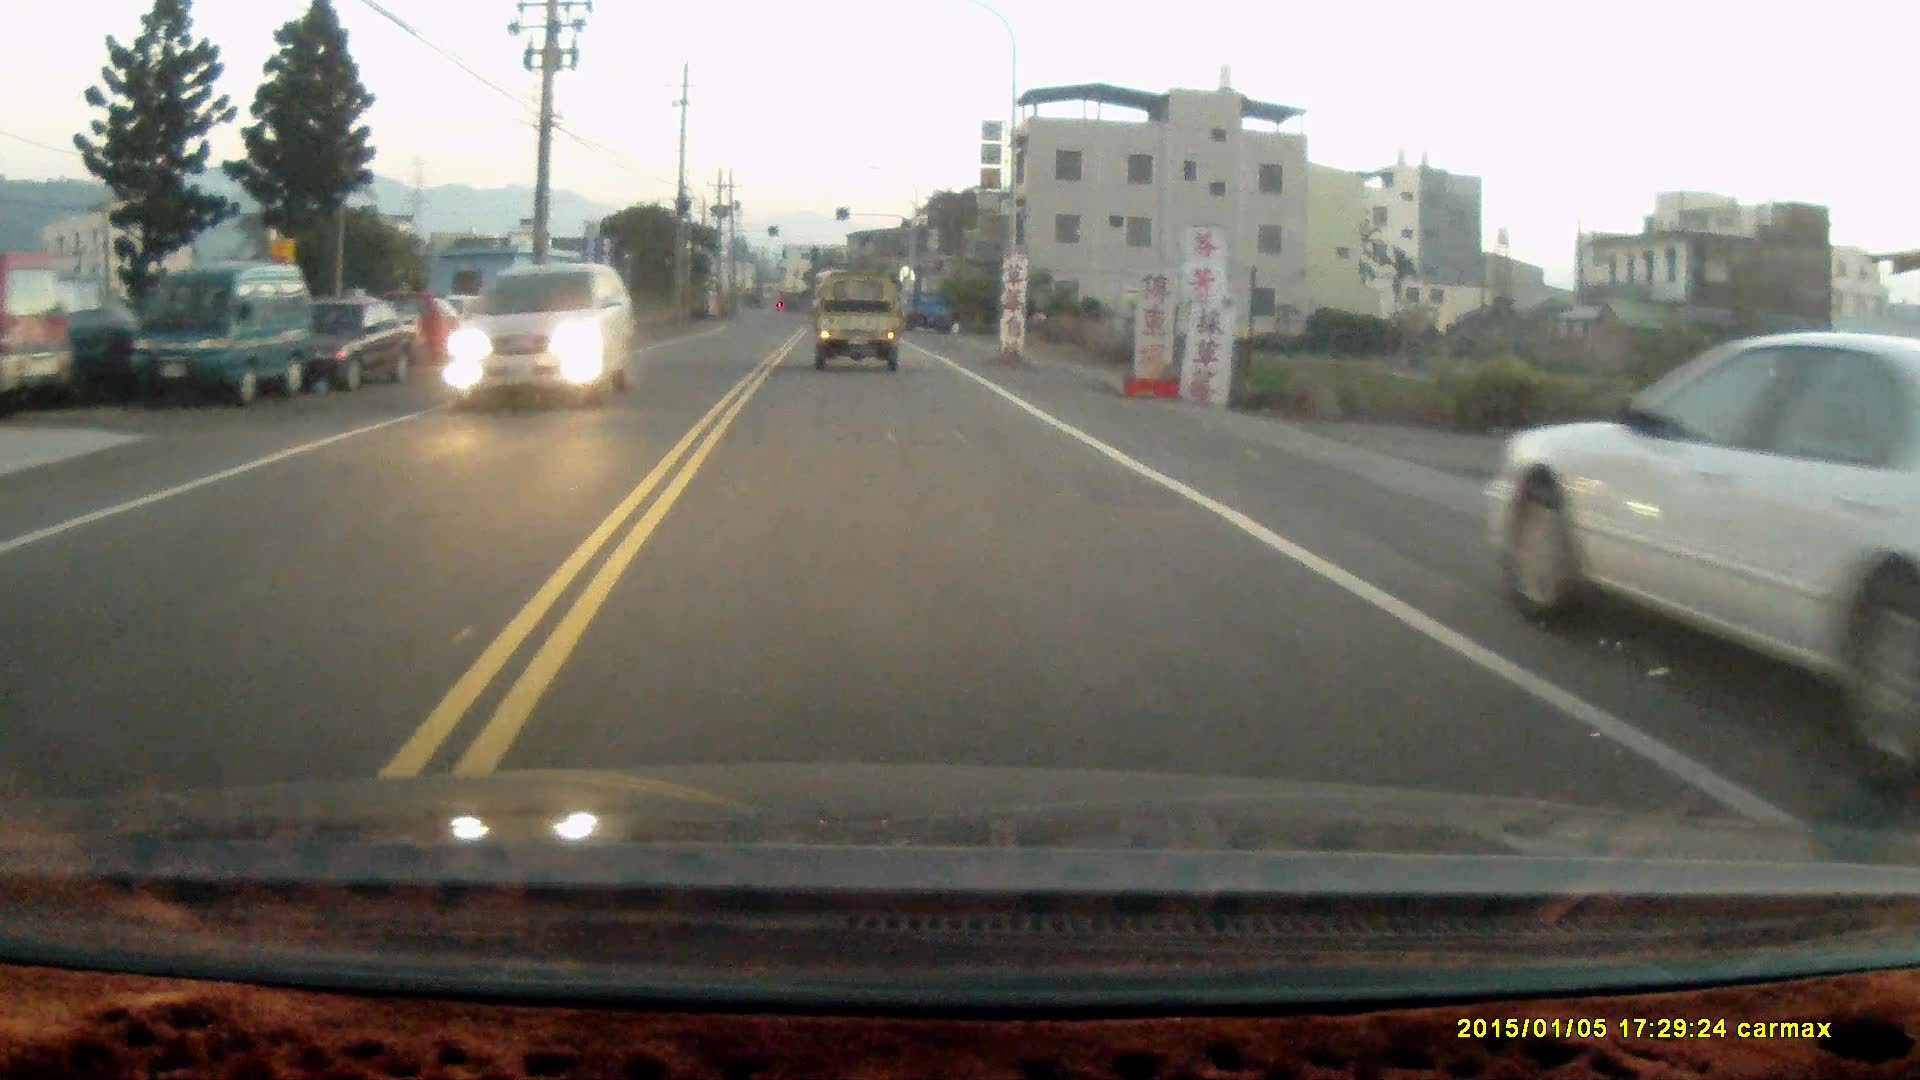vehicle: (1486, 328, 1920, 746), (447, 262, 636, 415), (131, 258, 314, 404), (305, 291, 427, 400), (1, 247, 78, 400), (812, 276, 906, 373), (899, 290, 955, 335)
